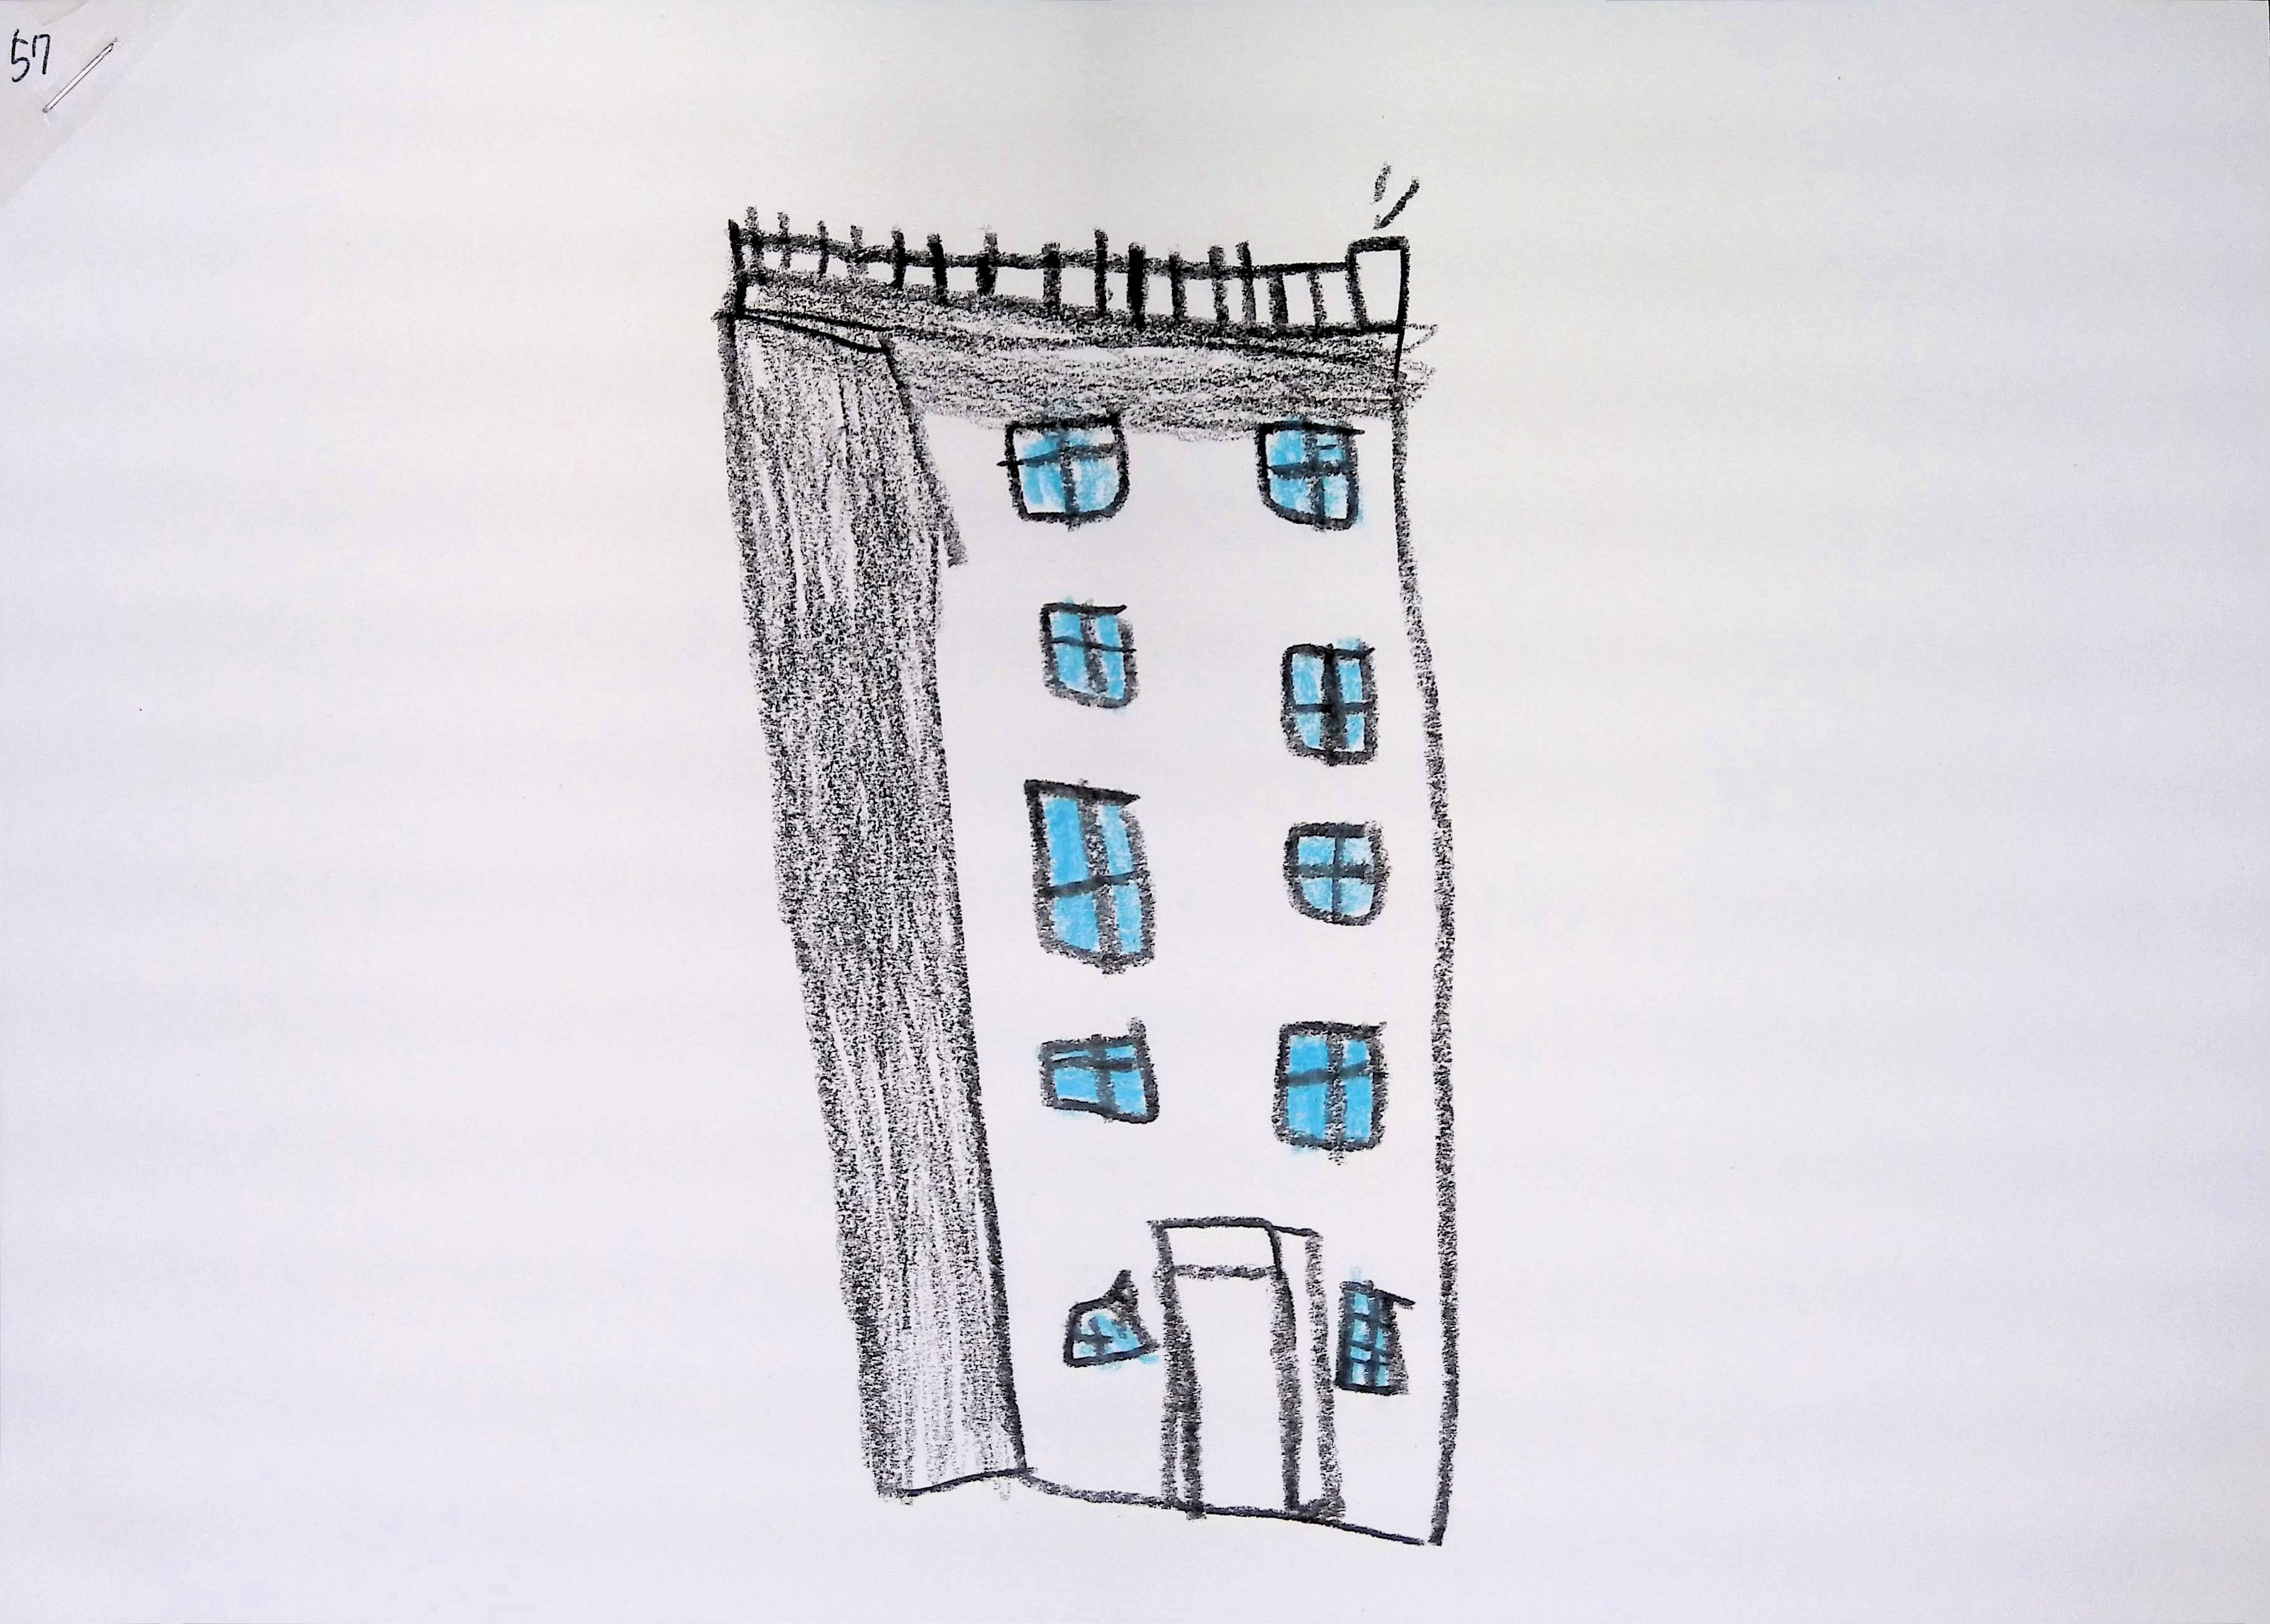chimney: (1330, 234, 1420, 334)
door: (1147, 1197, 1344, 1513)
house: (708, 202, 1464, 1554)
wall: (733, 295, 1455, 1548)
window: (1019, 761, 1156, 967), (1276, 1014, 1386, 1156), (1251, 399, 1363, 538), (1005, 394, 1124, 522), (1031, 598, 1144, 721), (1274, 633, 1381, 759), (1283, 803, 1390, 921), (1042, 1023, 1161, 1123), (1334, 1264, 1418, 1394), (1058, 1267, 1151, 1367)
